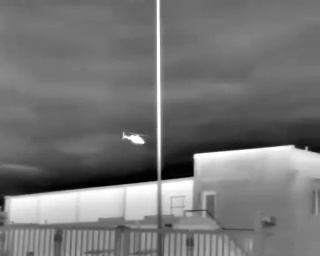HELICOPTER: (119, 127, 150, 150)
